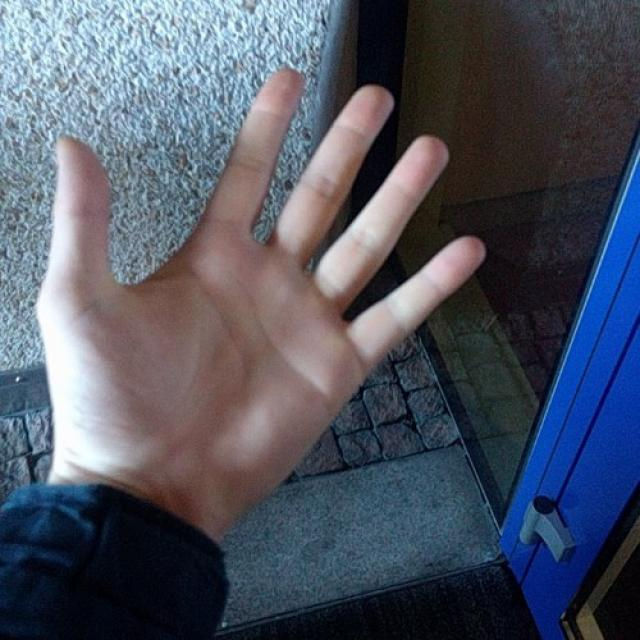paper: (43, 69, 484, 492)
